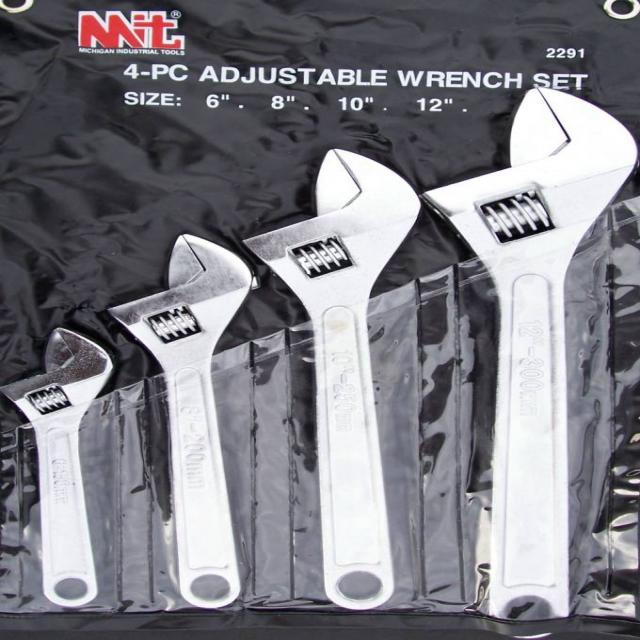wrench: (426, 80, 639, 640), (241, 140, 431, 620), (98, 227, 270, 610), (0, 317, 127, 612)
